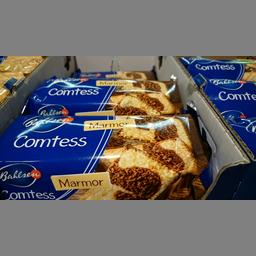cake: (0, 110, 221, 199), (20, 70, 186, 113)
